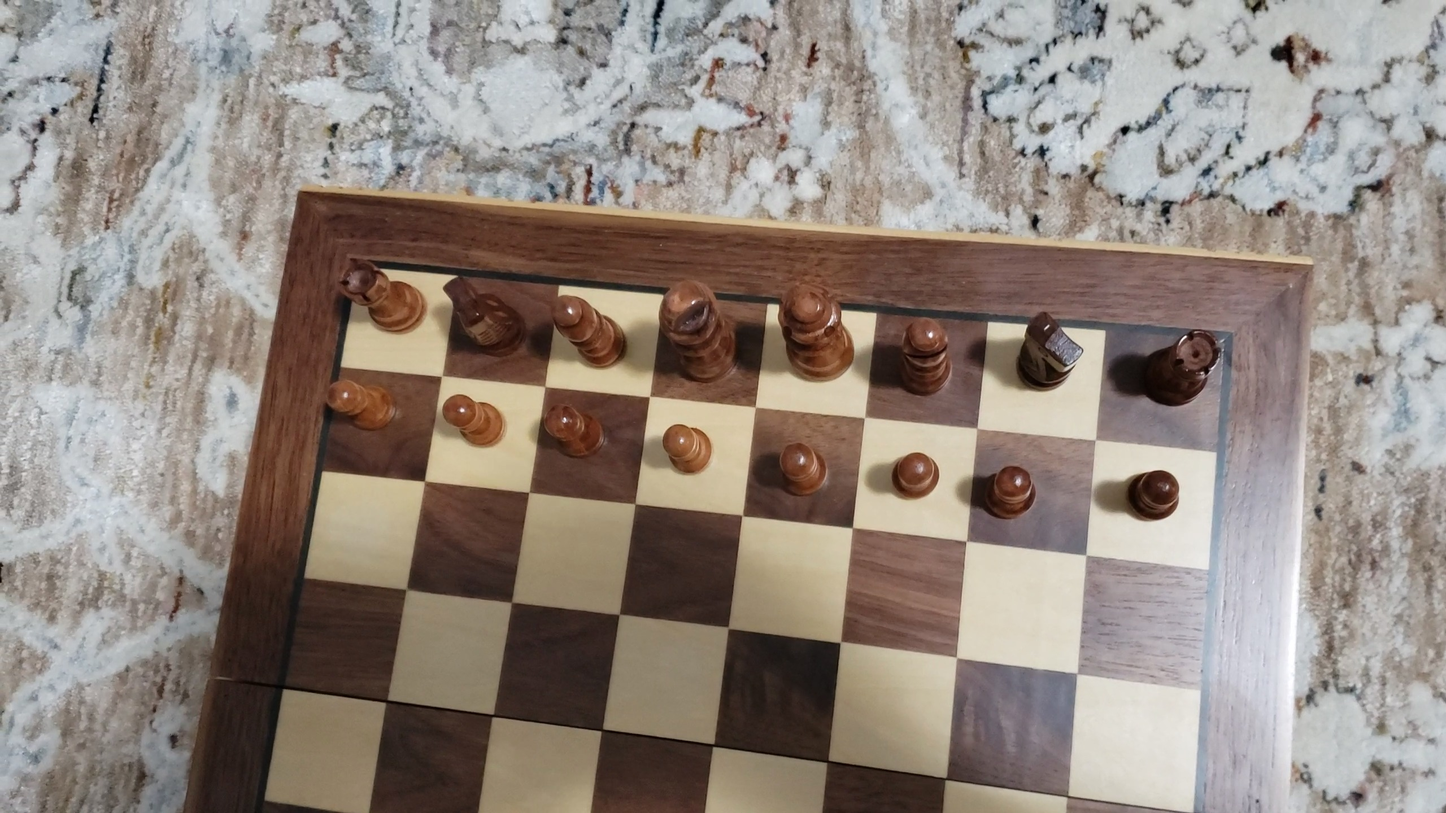black-bishop: (548, 292, 626, 369), (898, 314, 953, 396)
black-king: (657, 273, 739, 386)
black-knight: (443, 273, 527, 357), (1013, 308, 1085, 392)
black-pawn: (542, 399, 607, 460), (323, 376, 394, 431), (979, 461, 1039, 522), (439, 392, 504, 448), (1124, 466, 1184, 523), (777, 438, 829, 499), (659, 420, 713, 476), (889, 448, 942, 501)
black-queen: (775, 272, 857, 383)
black-rook: (1139, 327, 1222, 407), (339, 258, 424, 334)
